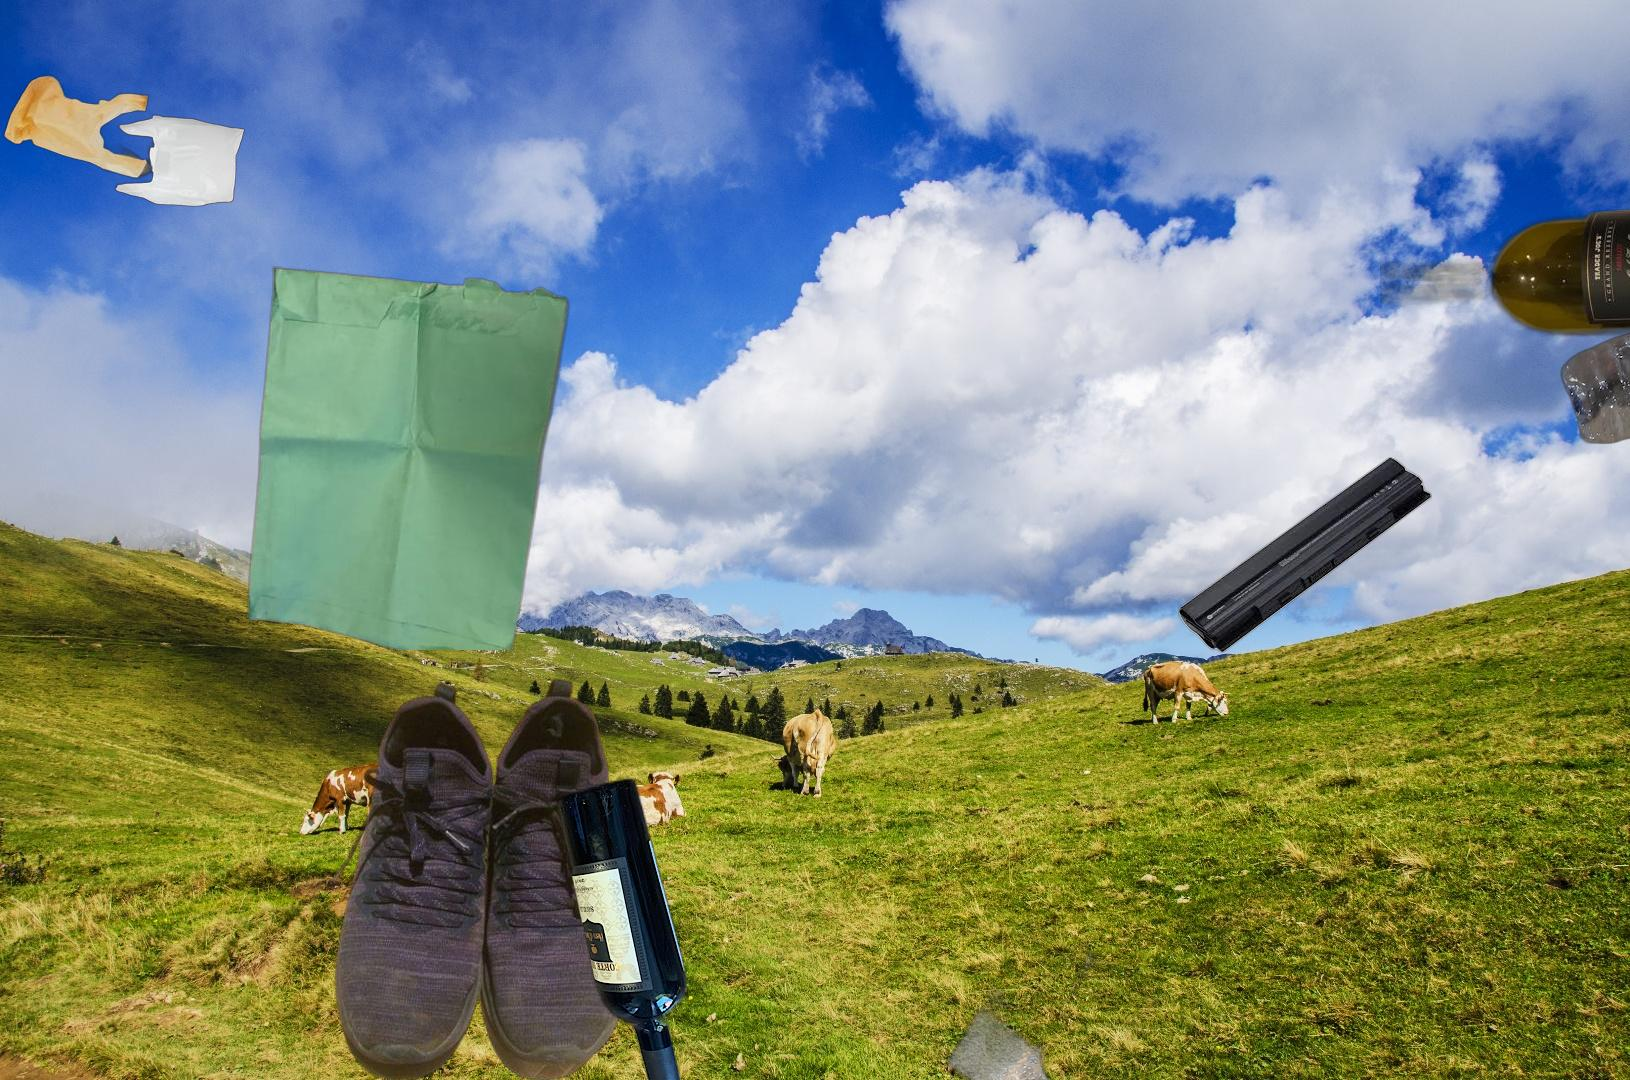battery: (1178, 456, 1432, 655)
glass: (552, 771, 692, 1080), (1379, 190, 1630, 352)
paper: (245, 266, 573, 650)
plastic-bag: (2, 74, 246, 209)
plastic-bottles: (940, 809, 1224, 1080), (1557, 315, 1630, 446)
shoes: (326, 675, 631, 1080)
